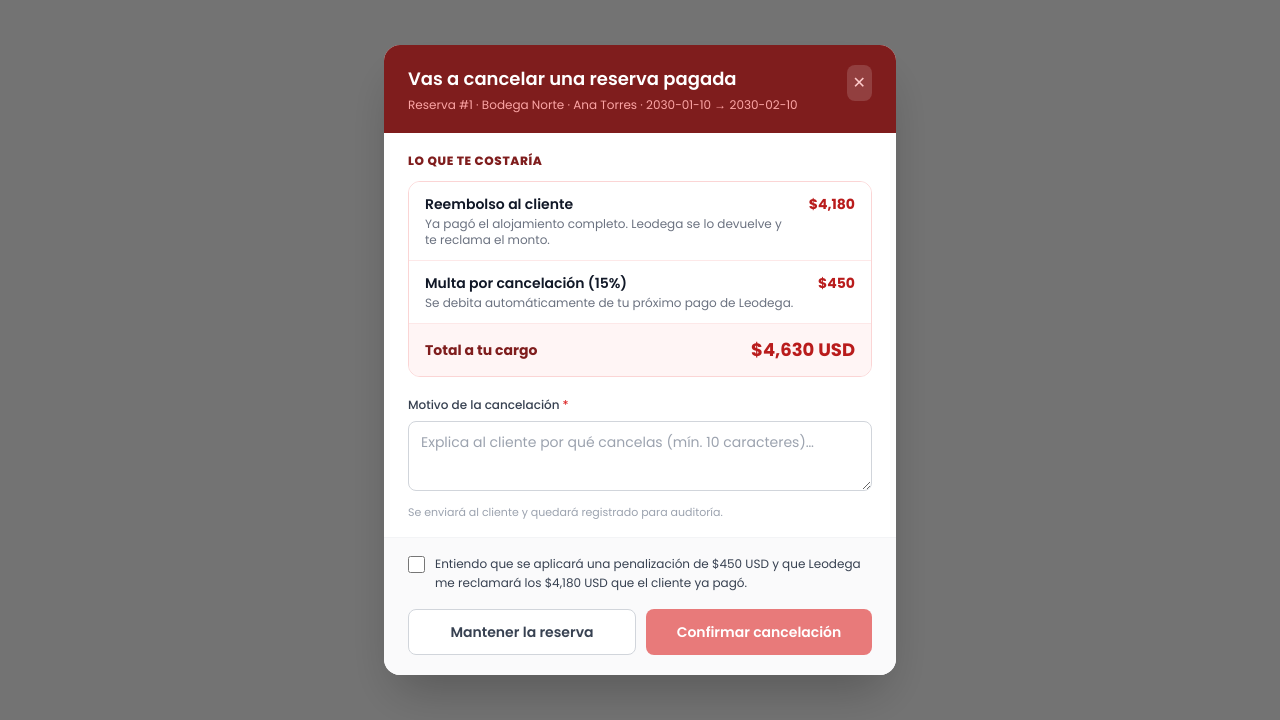
CancelarReservaModal › clears the acceptance checkbox highlight once it is checked
The width and height of the screenshot is (1280, 720).
Expected: the text "$4,180" is shown, left=809, top=194, right=855, bottom=214
Type "Motivo suficientemente largo" into the text box with placeholder "Explica al cliente por qué cancelas (mín. 10 caracteres)…" at (640, 456), box left=408, top=421, right=872, bottom=491
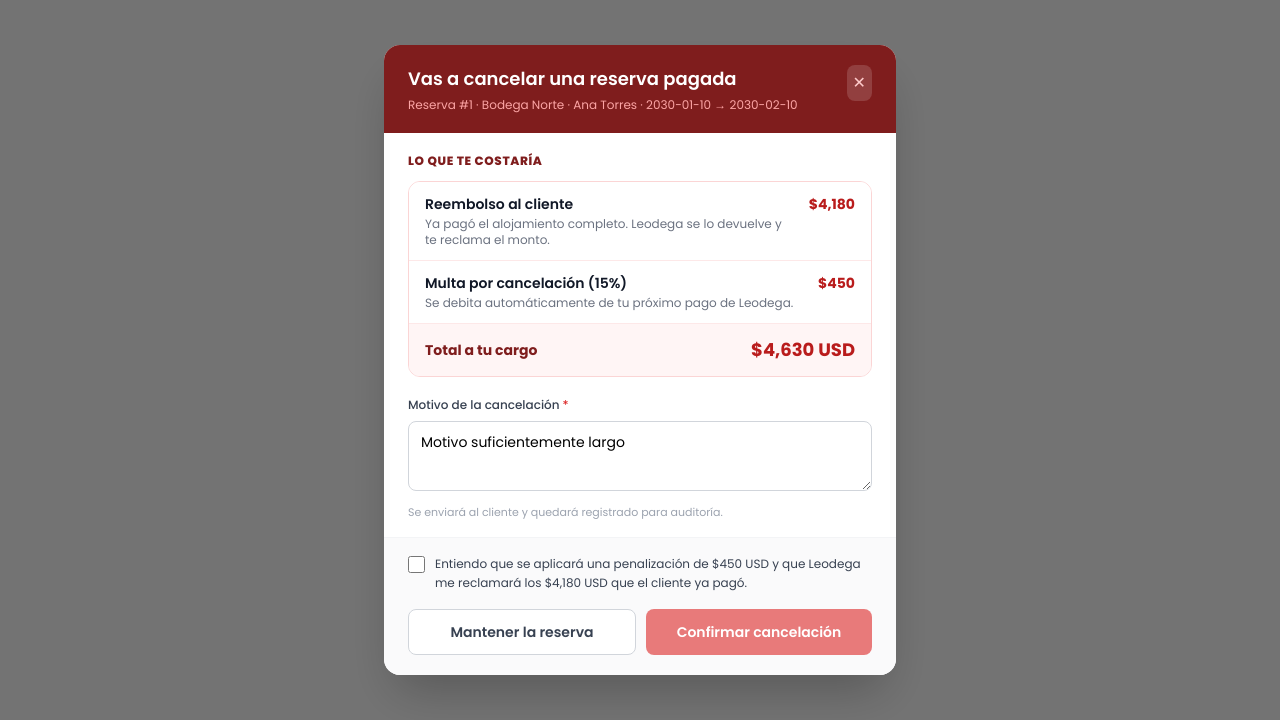
Click the button "Confirmar cancelación" at (759, 632), box left=646, top=609, right=872, bottom=655
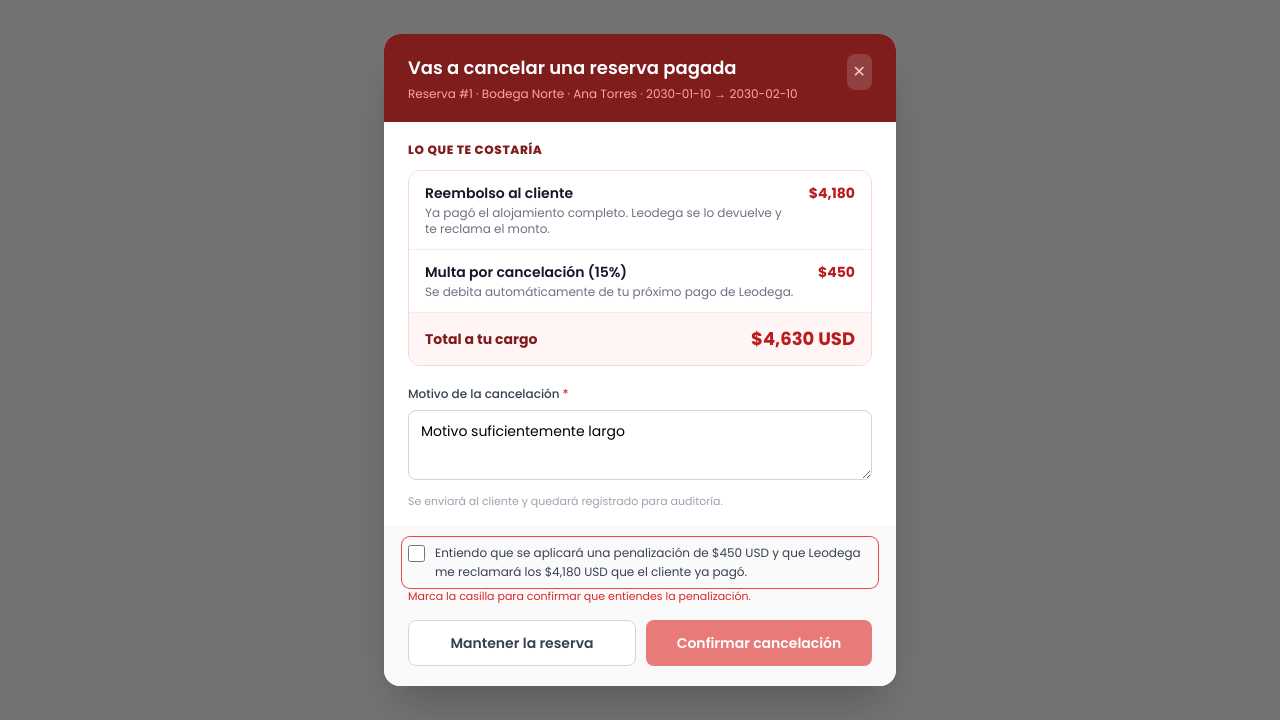
Now the text "Marca la casilla para confirmar que entiendes la penalización." is shown, box left=408, top=588, right=751, bottom=604
Click the checkbox at (416, 553), box left=408, top=544, right=425, bottom=562
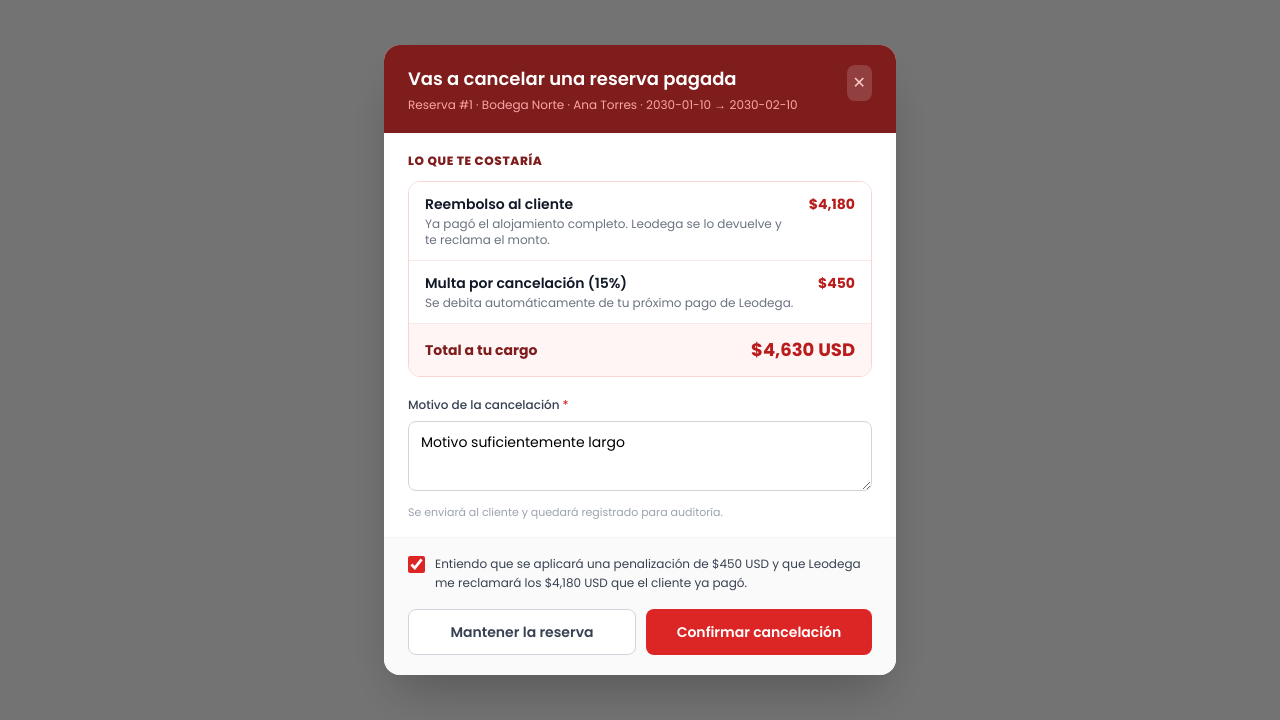
Now the text "Marca la casilla para confirmar que entiendes la penalización." is gone
